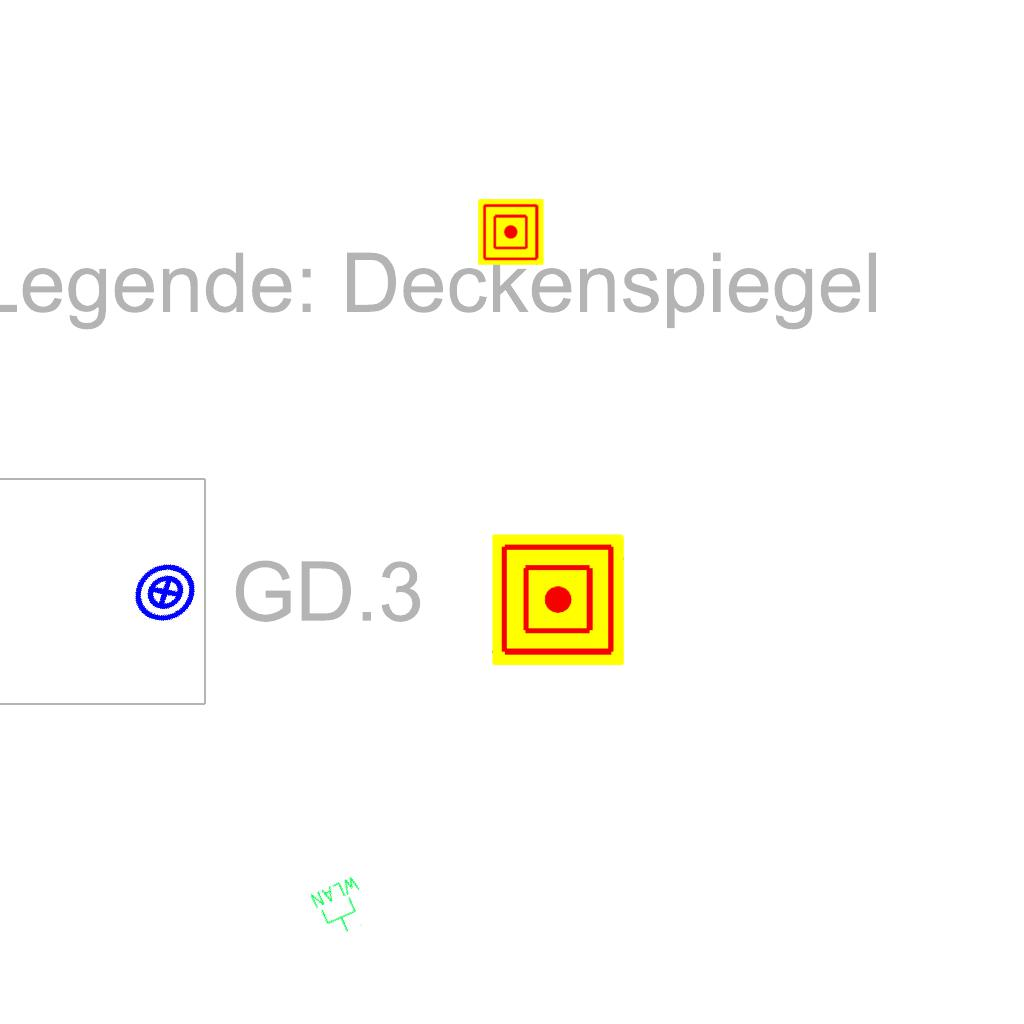NAM-Nichtautomatischer_Melder: (492, 534, 624, 666), (478, 199, 544, 265)
Taster_beleuchtet: (119, 546, 211, 638)
WLAN: (307, 872, 377, 942)
